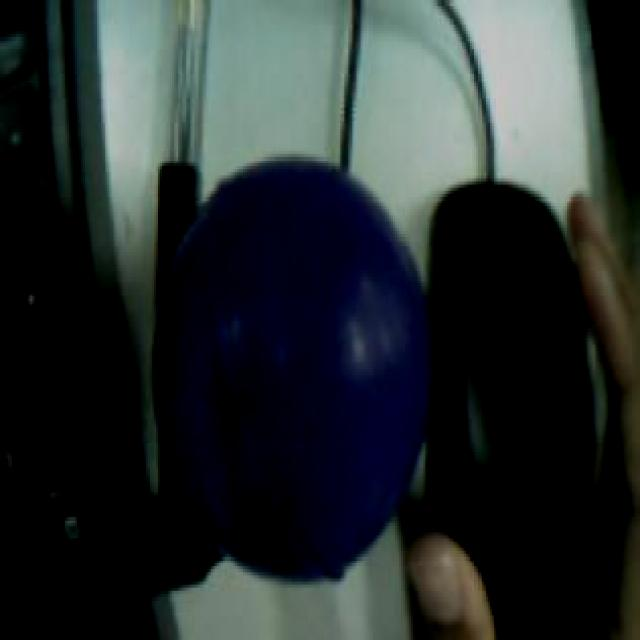BallPurple: (154, 158, 435, 582)
